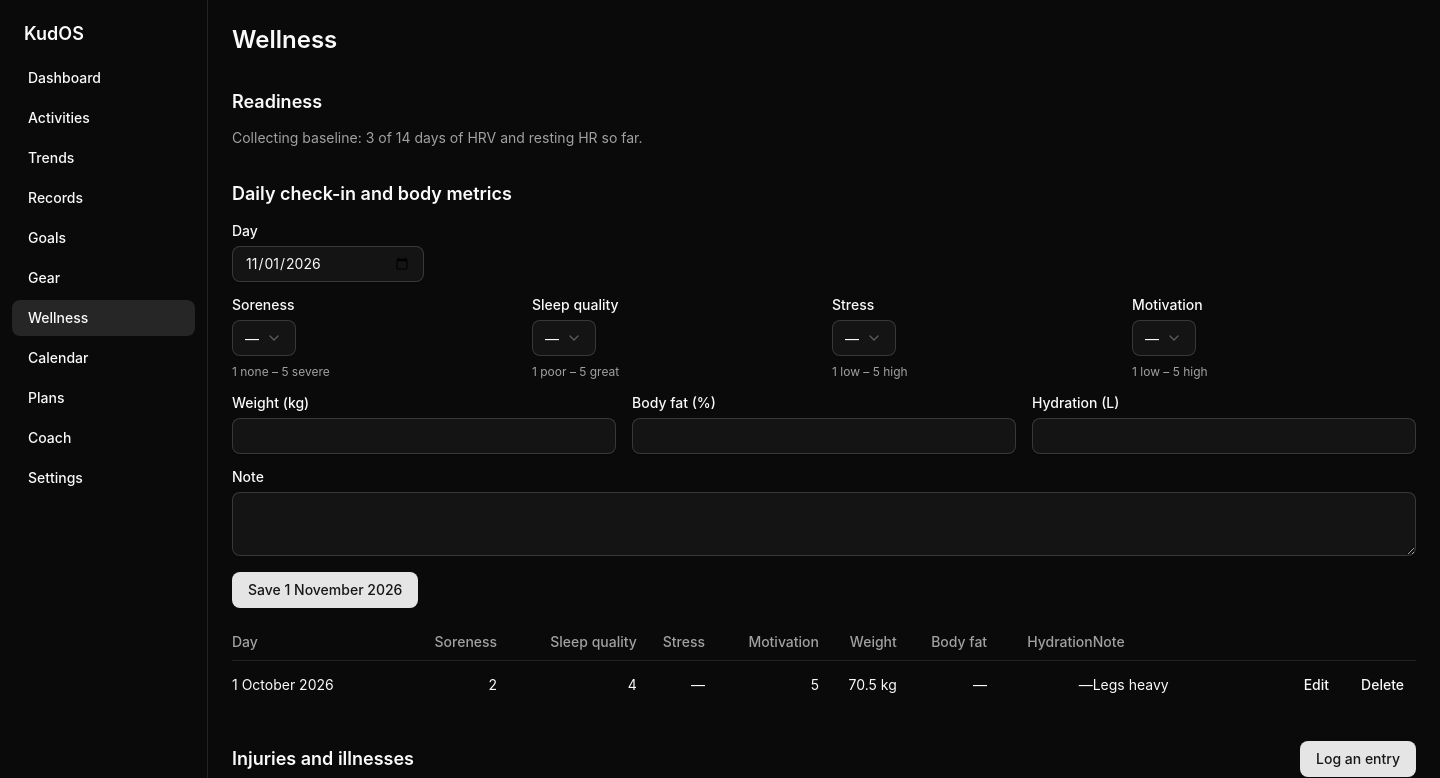
Scenario: WellnessPage › edits a listed day starting from its values
Click the button with aria-label "Edit 1 October 2026": [1316, 685] box [1292,669,1341,701]
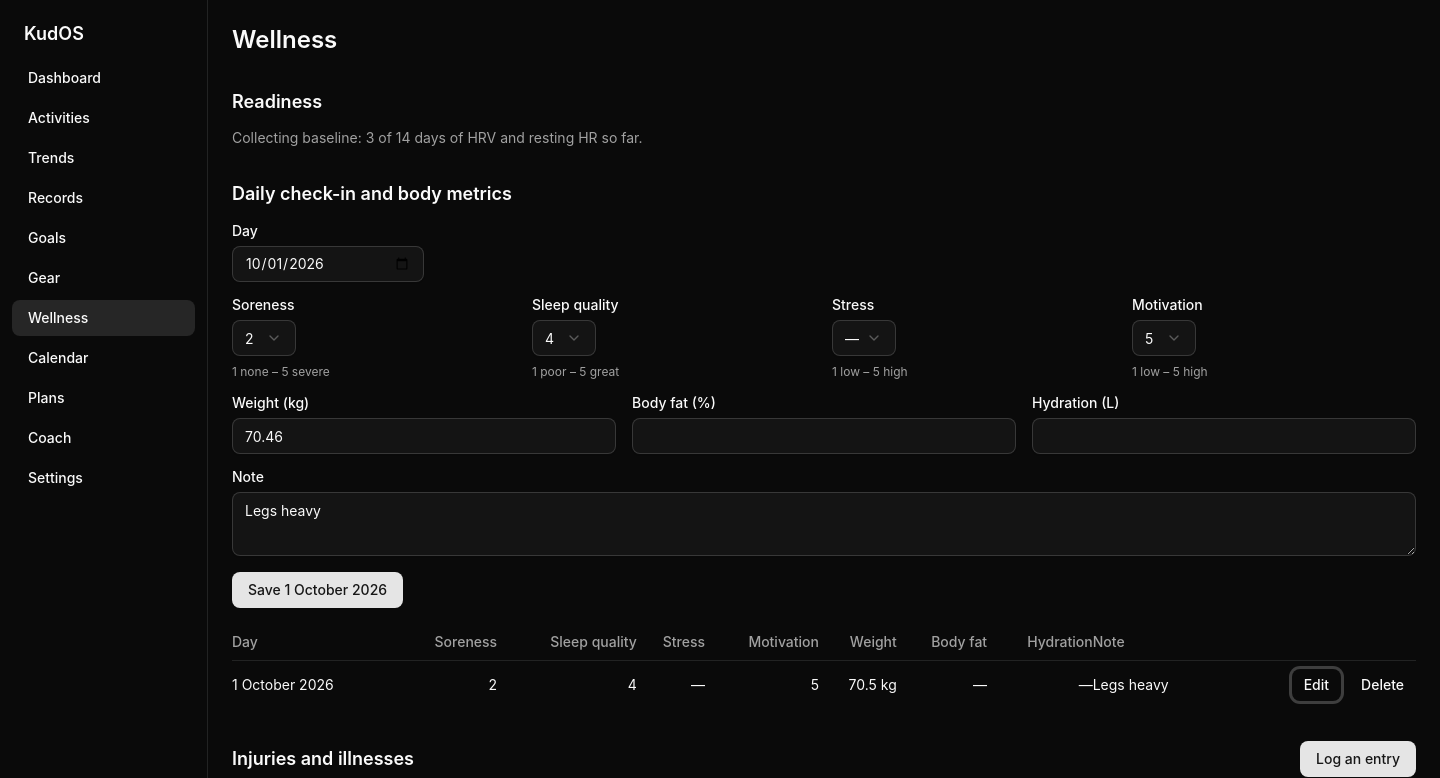
Expected: the date field labelled "Day" holds "2026-10-01", [232,246,424,282]
Expected: the dropdown labelled "Sleep quality" shows "4", [532,320,596,356]
Expected: the field labelled "Weight (kg)" holds "70.46", [232,418,616,454]
Select "2" in the dropdown labelled "Stress": [864, 338] box [832,320,896,356]
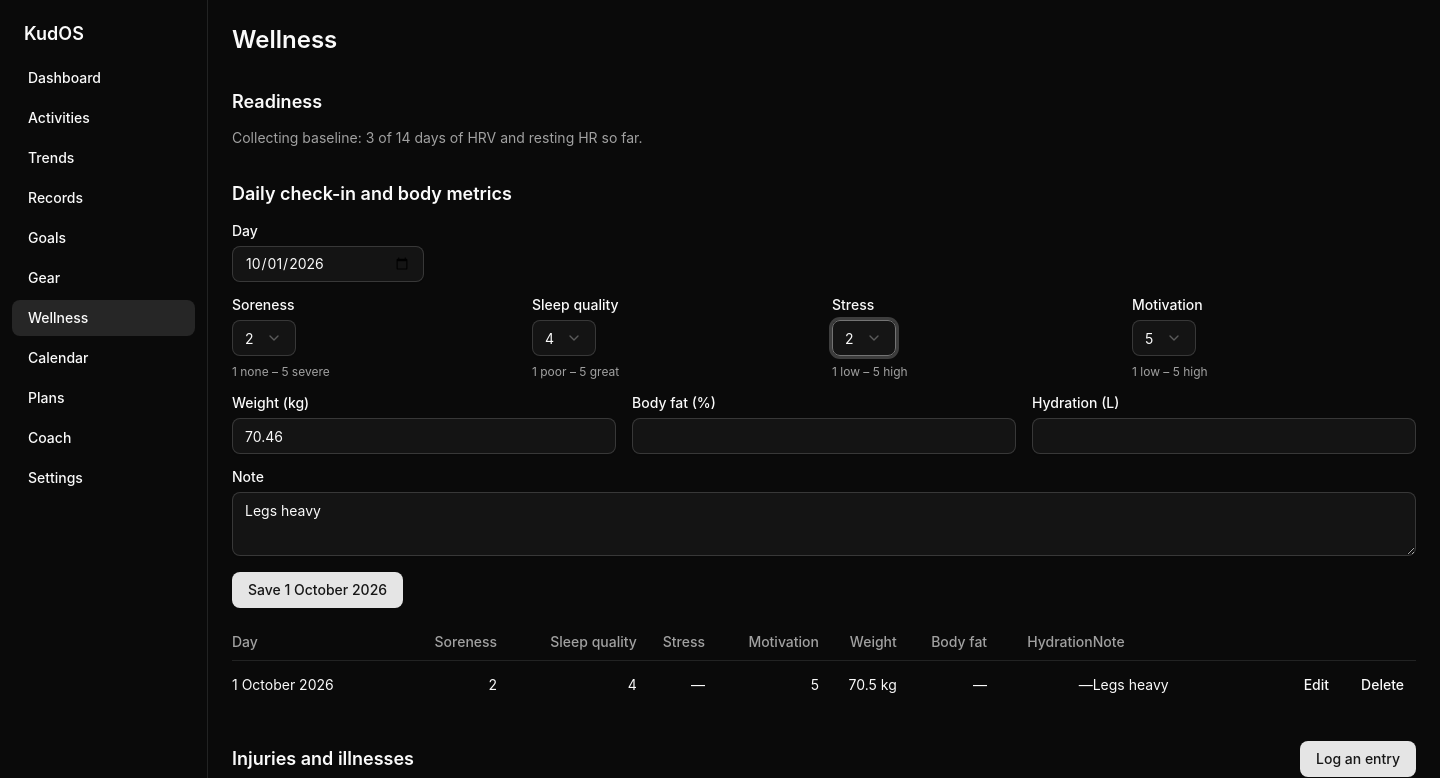
Click the button "Save 1 October 2026": [318, 590] box [232,572,403,608]
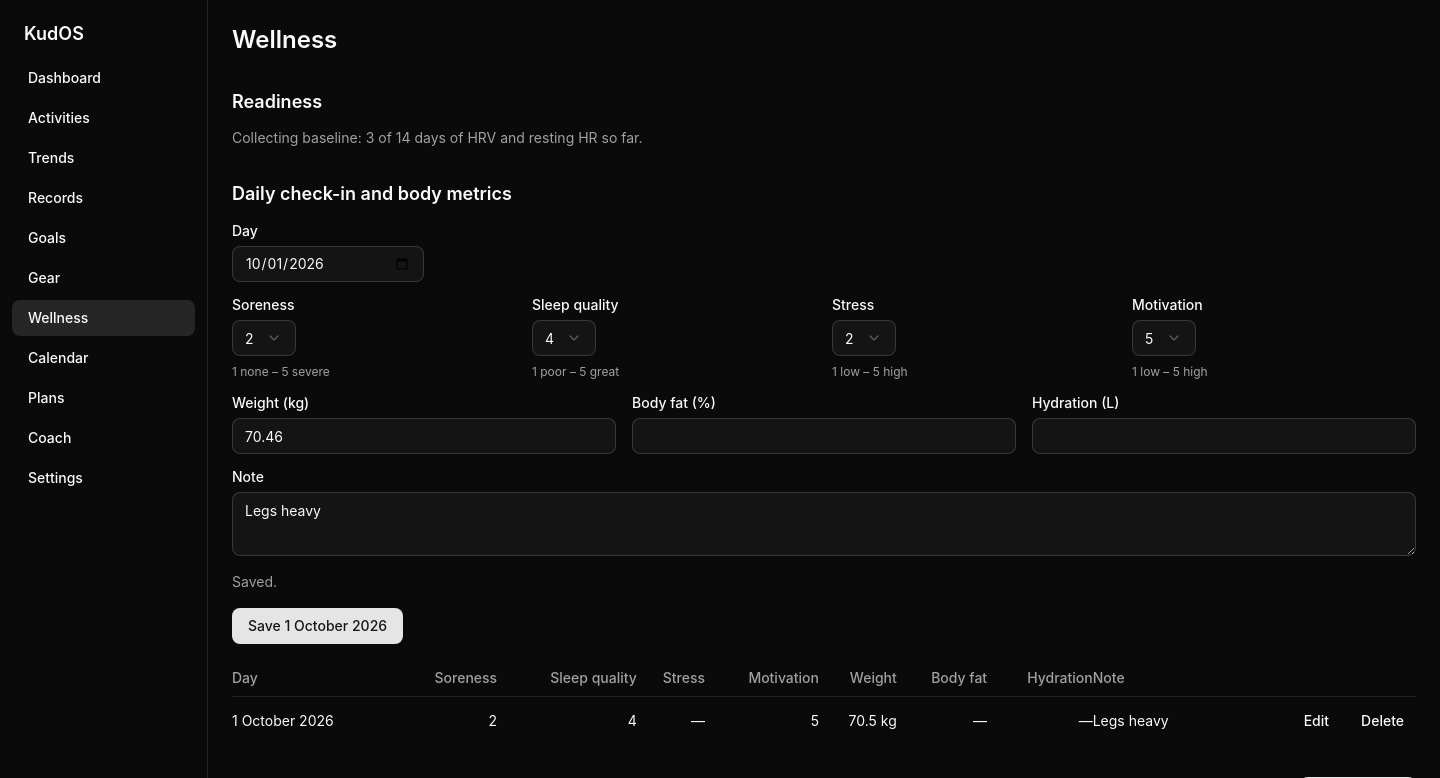
Expected: the text "Saved." is shown, [232,573,277,590]
